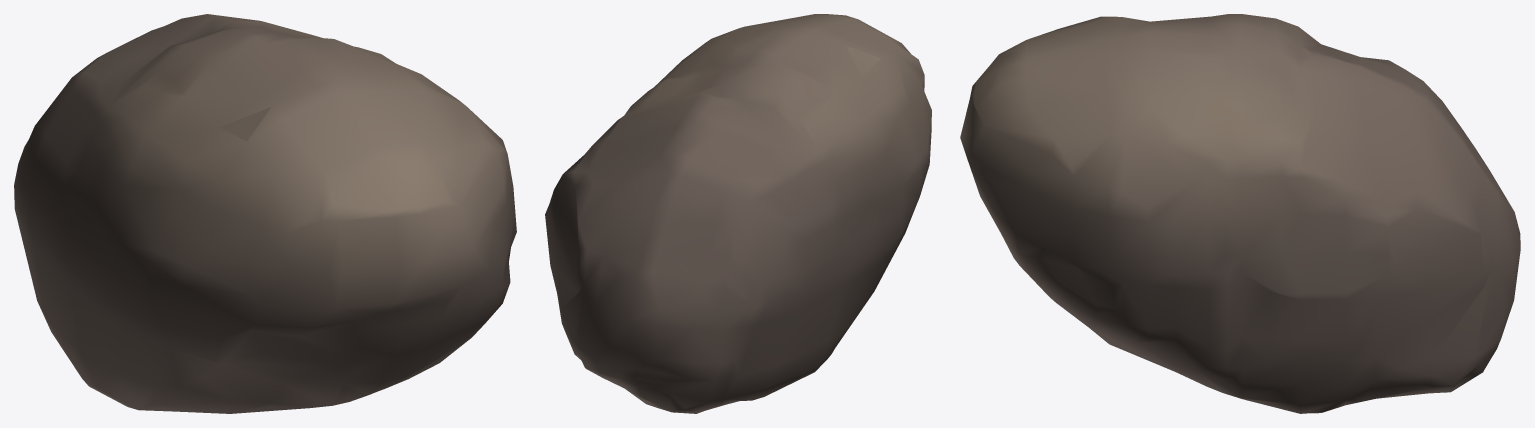
3 renders of one model, left to right at view 1: azimuth 30°, elevation 25°; view 2: azimuth 150°, elevation 25°; view 3: azimuth 270°, elevation 25°, orthographic. The views are drawn at different scales.
Visible parts, largest first — view 1: RockMedium.001; view 2: RockMedium.001; view 3: RockMedium.001.
Boxes of the visible parts, x1,y1,x2,y2 form: RockMedium.001: (14,14,516,413); RockMedium.001: (545,14,931,413); RockMedium.001: (960,14,1520,413).
Size of the model in its own units: 0.3506 by 0.3369 by 0.5.
